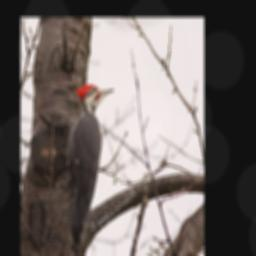Woodpecker: (64, 85, 116, 251)
